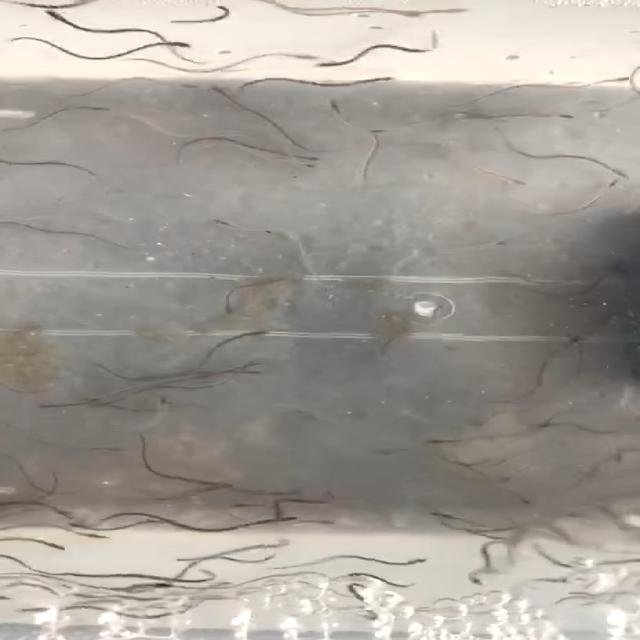active_glass_eel: (543, 330, 598, 352), (20, 3, 84, 21), (317, 60, 381, 76), (312, 93, 353, 117), (430, 520, 479, 540), (539, 108, 587, 128), (227, 324, 274, 344), (362, 446, 411, 465), (353, 72, 407, 89), (43, 511, 97, 528), (182, 0, 242, 15), (349, 124, 394, 144), (84, 442, 127, 462), (208, 81, 242, 105), (460, 572, 497, 594), (475, 235, 522, 252), (598, 178, 634, 200), (206, 212, 242, 234), (214, 300, 252, 320), (285, 404, 323, 423), (520, 417, 560, 435), (276, 49, 316, 66), (599, 447, 631, 468), (154, 38, 198, 52), (511, 491, 545, 509), (425, 432, 461, 448), (393, 555, 431, 570), (78, 392, 117, 406), (40, 522, 74, 538), (76, 102, 120, 114), (421, 509, 454, 525), (610, 509, 634, 528), (246, 368, 274, 384), (594, 76, 638, 86), (304, 145, 328, 163), (175, 80, 200, 97), (230, 496, 256, 512), (290, 160, 324, 172), (156, 409, 183, 424), (207, 482, 234, 497), (250, 550, 280, 563), (133, 571, 162, 584), (611, 164, 633, 181), (320, 516, 346, 530), (2, 537, 38, 547), (143, 590, 173, 602), (0, 457, 29, 469), (499, 472, 522, 486), (272, 514, 298, 526), (244, 360, 266, 374), (202, 565, 224, 579), (343, 569, 365, 583), (147, 582, 177, 592), (305, 498, 329, 508), (264, 540, 292, 548), (203, 580, 235, 586)
